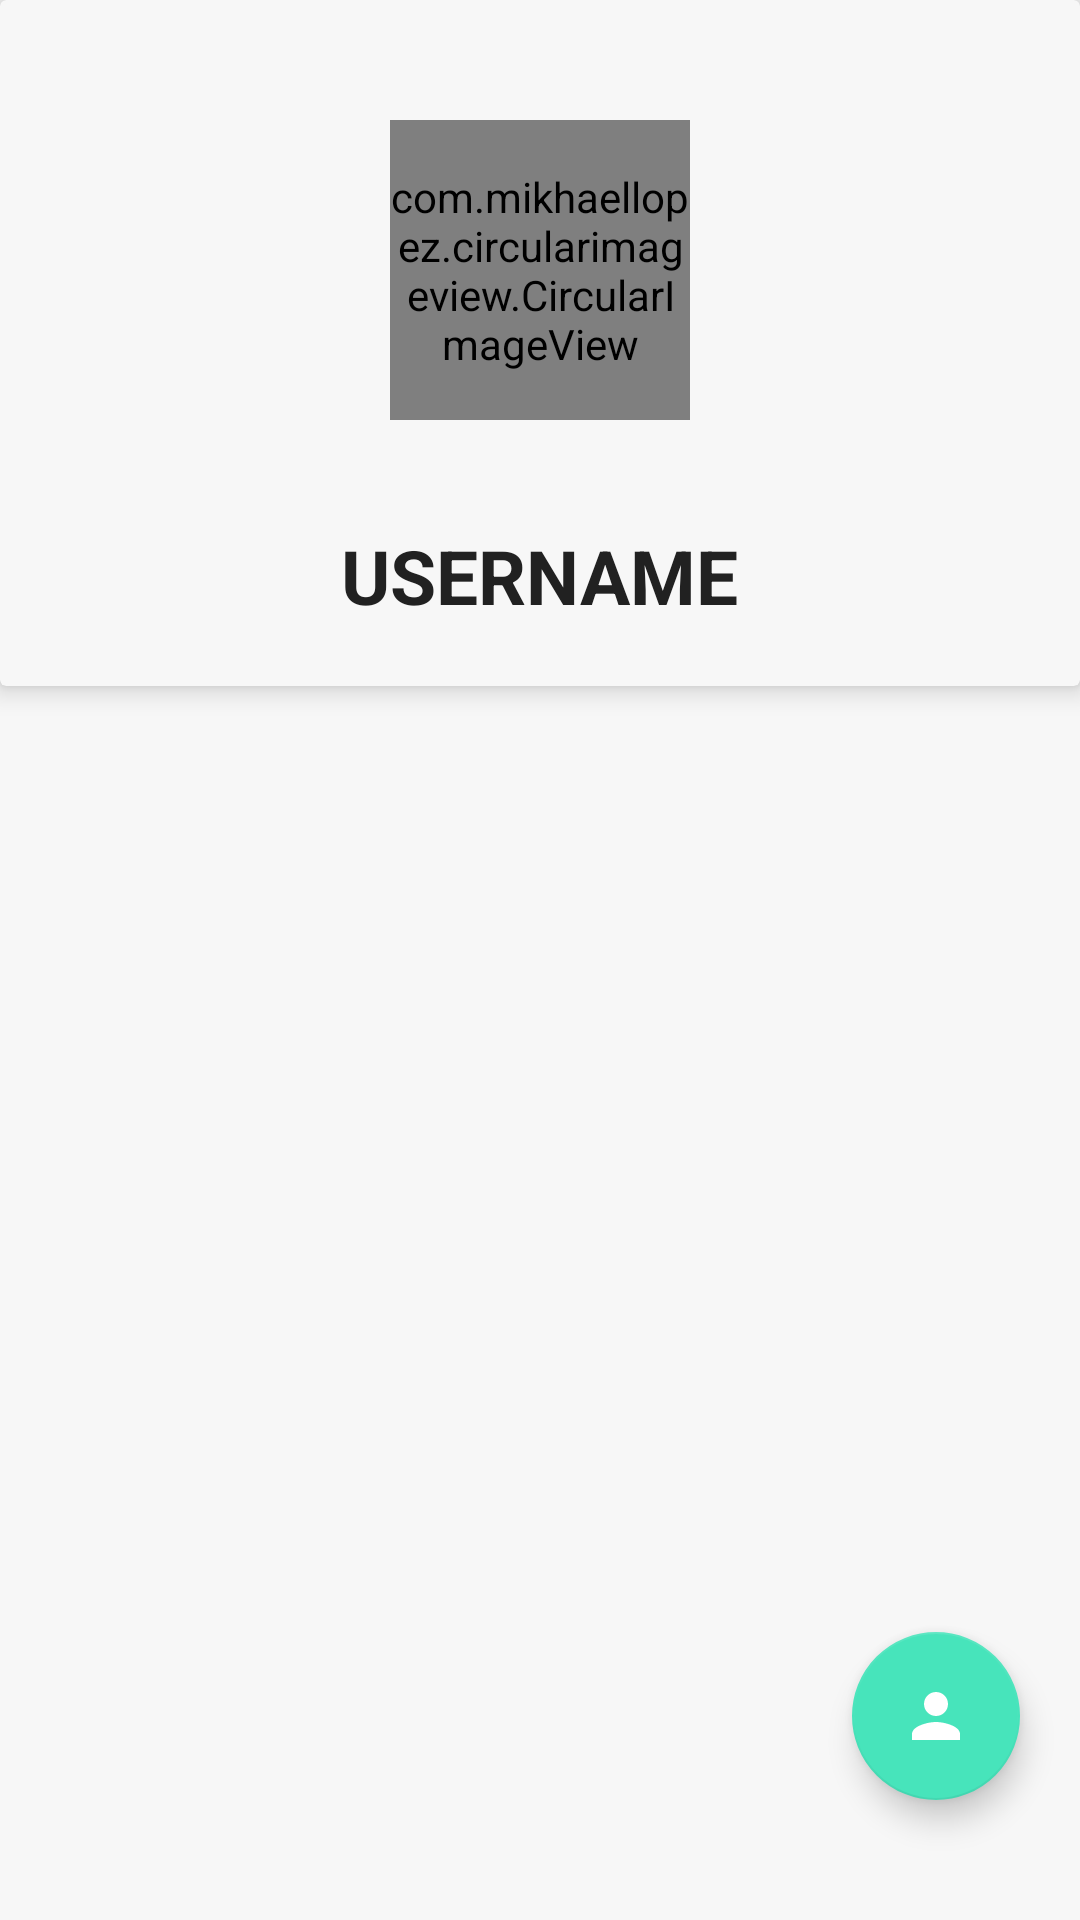

Screen size 1080w x 1920h. Icon name, then its box in pixels as BBox(x1, y1, x2, y2):
person: BBox(852, 1632, 1020, 1800)
